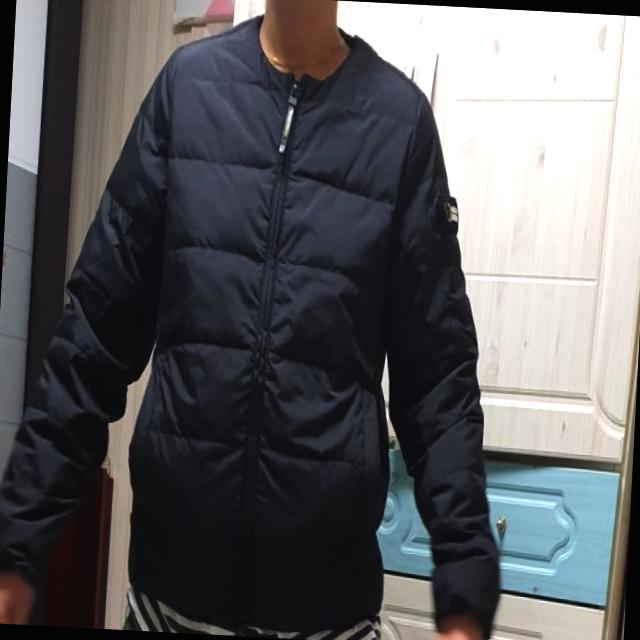padding: (0, 0, 530, 639)
